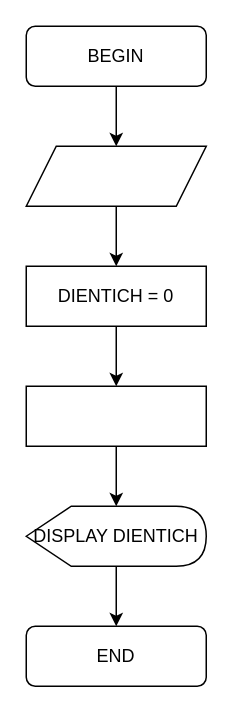
Image size: 233x713. Some labels were removed from this diagram. Here are the shapes that lost their labels. From the top down, the box of each, then its label:
(25, 145, 206, 206): INPUT R
(25, 385, 206, 446): DIENTICH = pow(R,2) * 3.14
